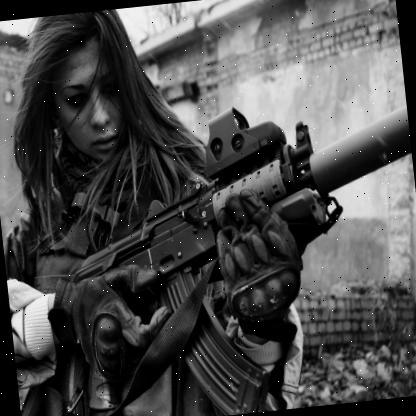rifle: (0, 70, 416, 416)
